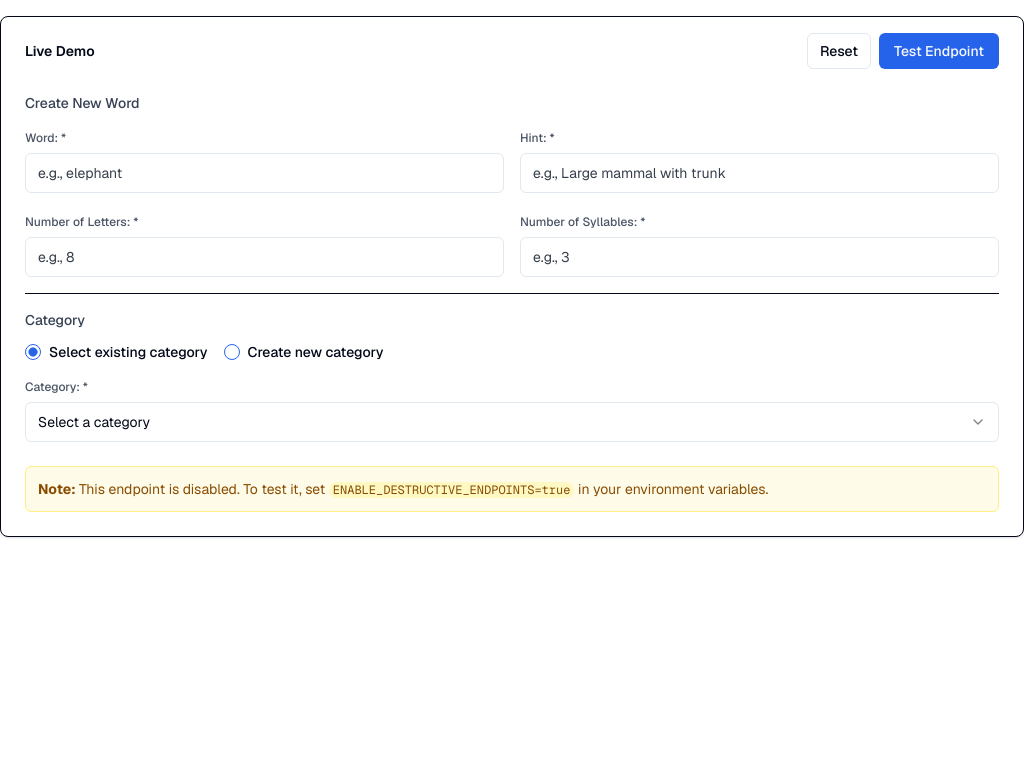
Test: Word CRUD Integration Flow › should reset form after successful submission
Type "banana" into the field labelled "Word: *".
click(264, 173); type("banana")  # box [25,153,504,193]
Type "A yellow fruit" into the field labelled "Hint: *".
click(760, 173); type("A yellow fruit")  # box [520,153,999,193]
Type "6" into the number field labelled "Number of Letters: *".
click(264, 257); type("6")  # box [25,237,504,277]
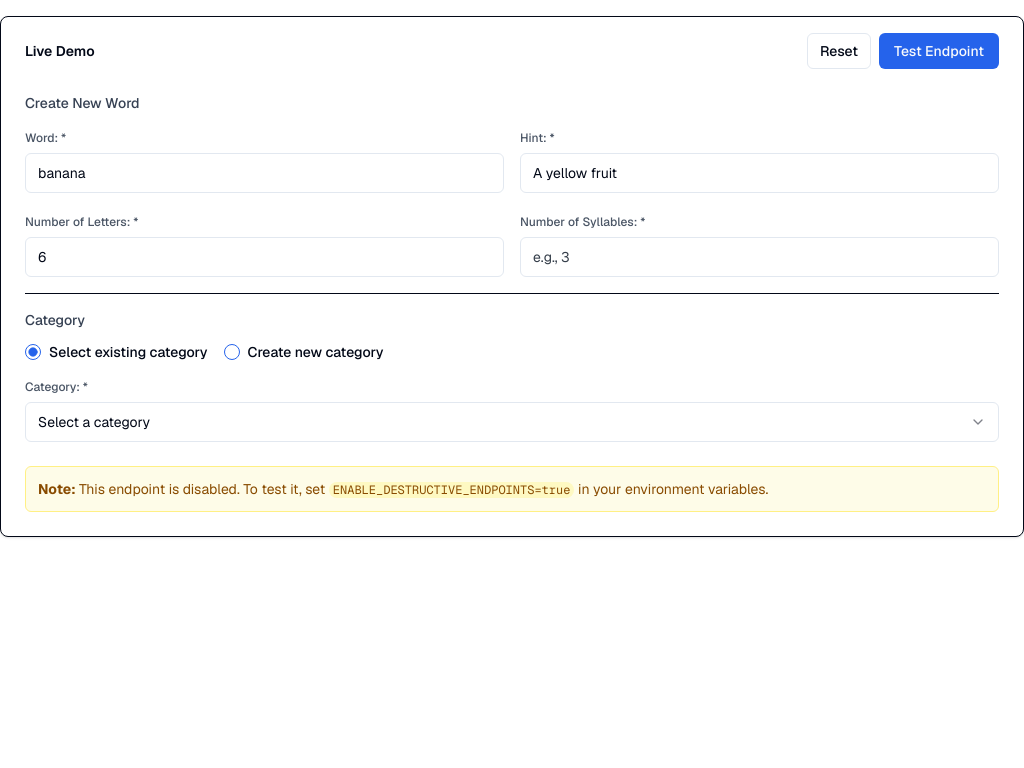
Type "3" into the number field labelled "Number of Syllables: *".
click(760, 257); type("3")  # box [520,237,999,277]
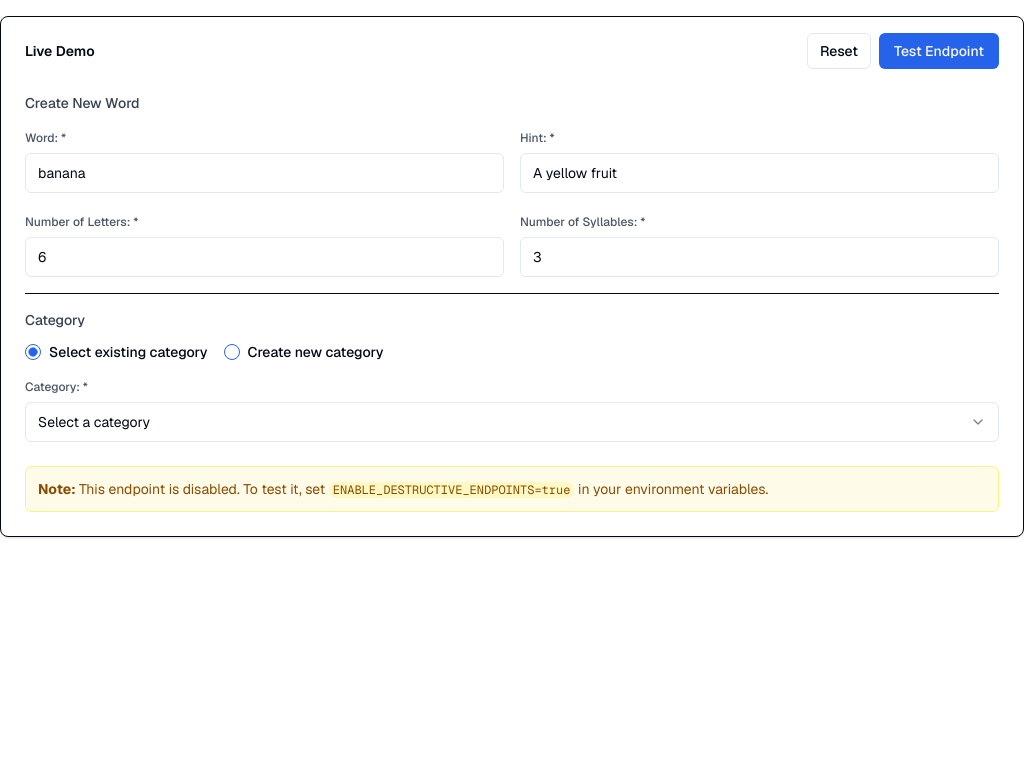
Note: Select category
Click the dropdown.
click(94, 422)  # box [25,402,999,442]
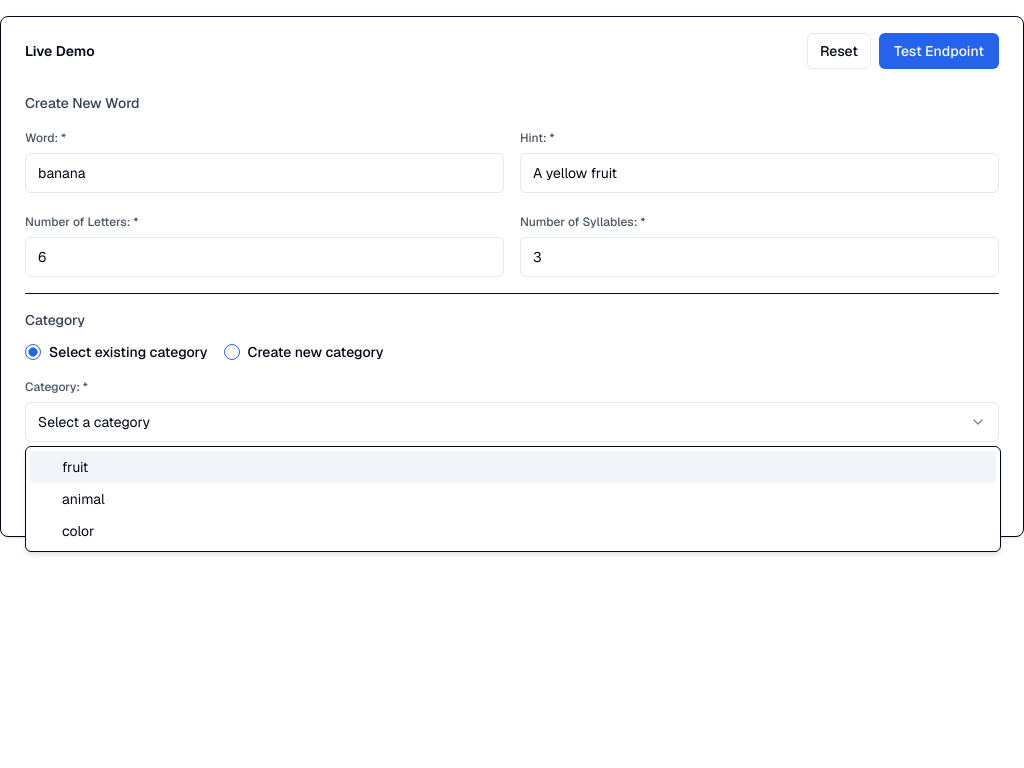
Check: the text "fruit" is shown, box [62,457,88,477]
Click the option "fruit".
click(75, 467)  # box [30,451,996,483]
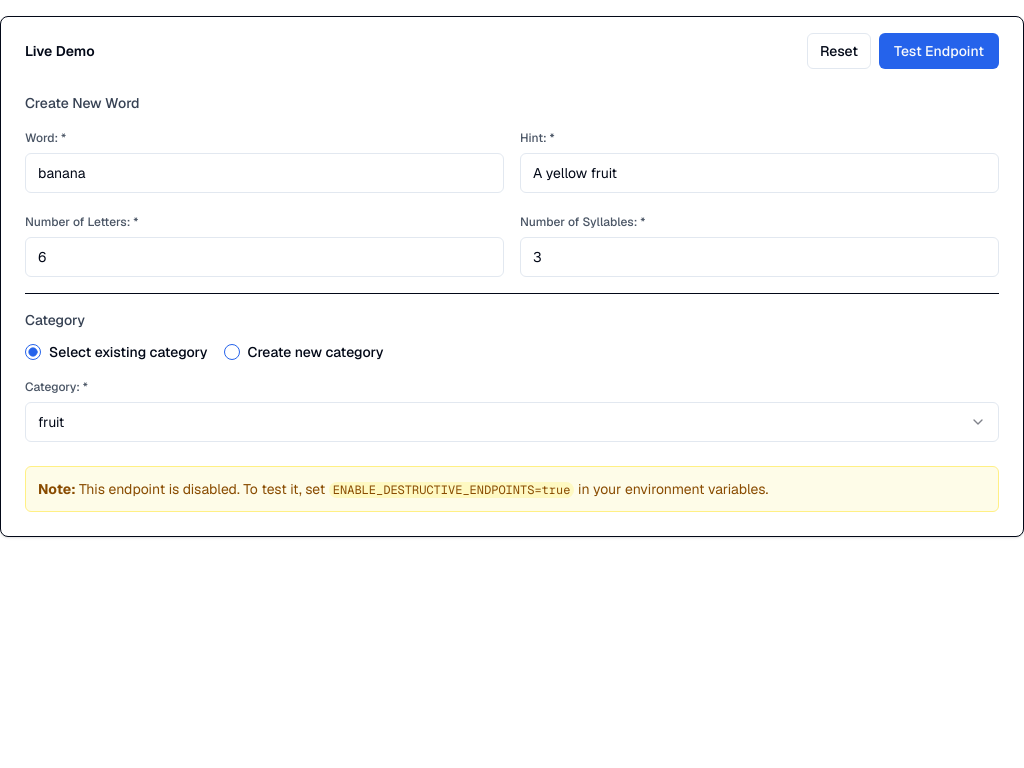
Click the button "Test Endpoint".
click(939, 51)  # box [879,33,999,69]
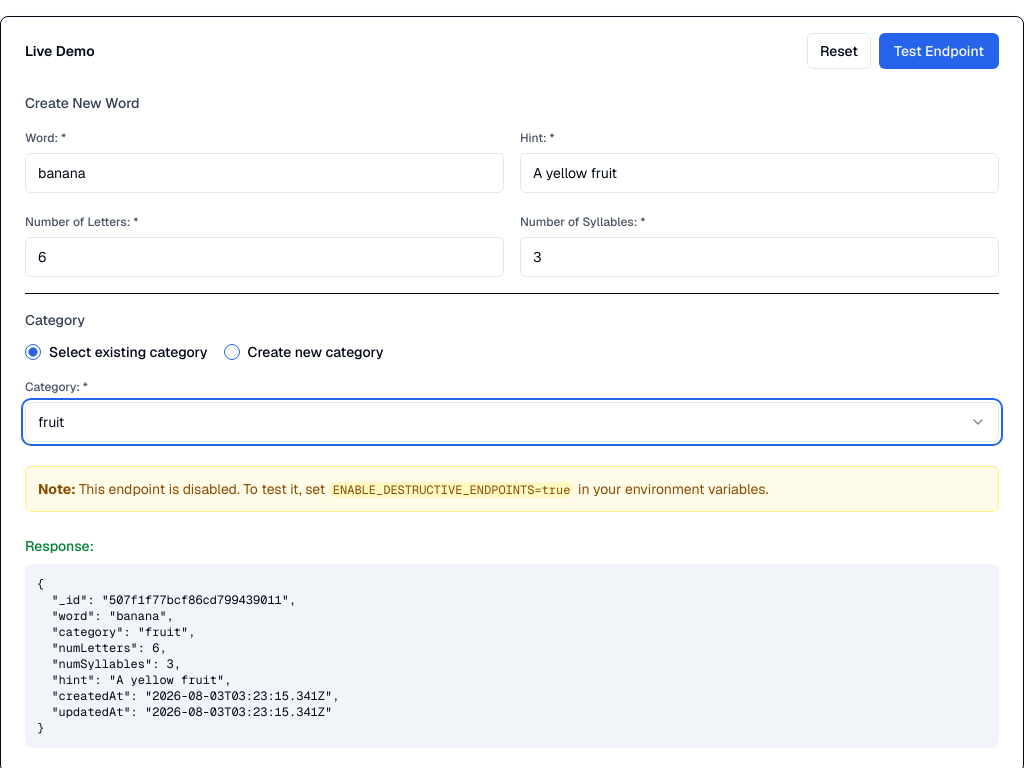
Check: the heading "Response:" is shown, box [25,536,94,556]
Note: Reset form
Click the button "Reset".
click(839, 51)  # box [807,33,871,69]
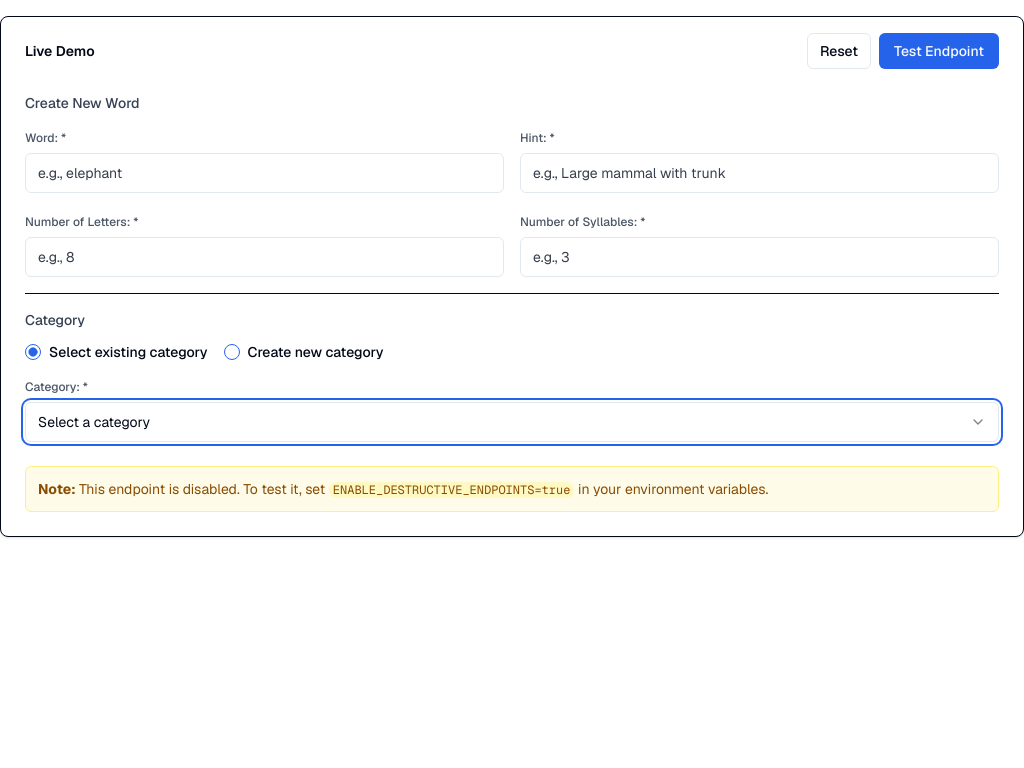
Check: the field labelled "Word: *" is empty, box [25,153,504,193]
